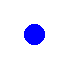circle: (24, 24, 44, 44)
